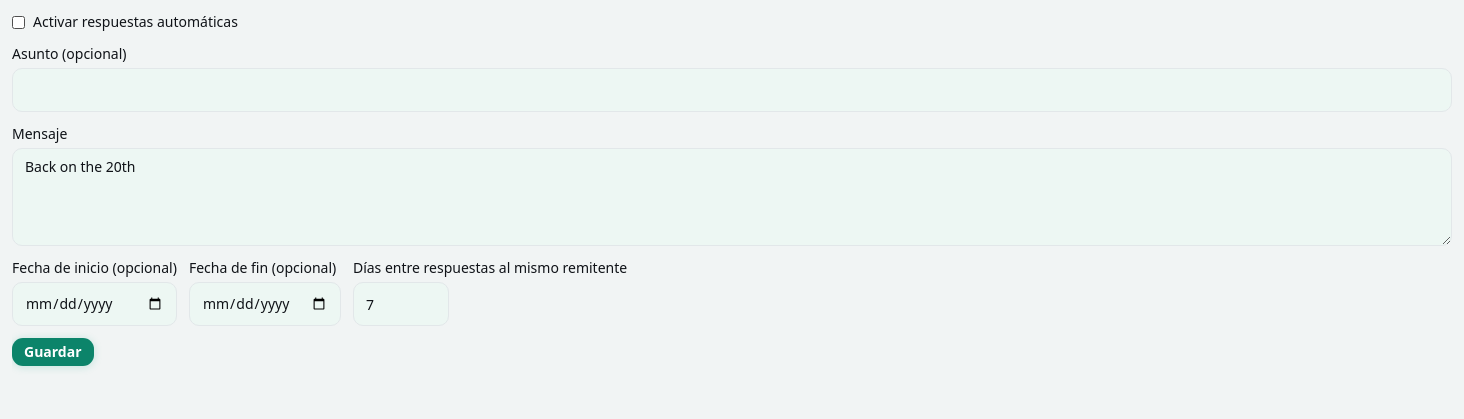
VacationSettings › shows the sync-failed error from the server
The width and height of the screenshot is (1464, 419).
Expected: the checkbox labelled "Activar respuestas automáticas" is shown, [12,16,25,28]
Click the button "Guardar". click: (53, 352)
box: [12,338,94,366]
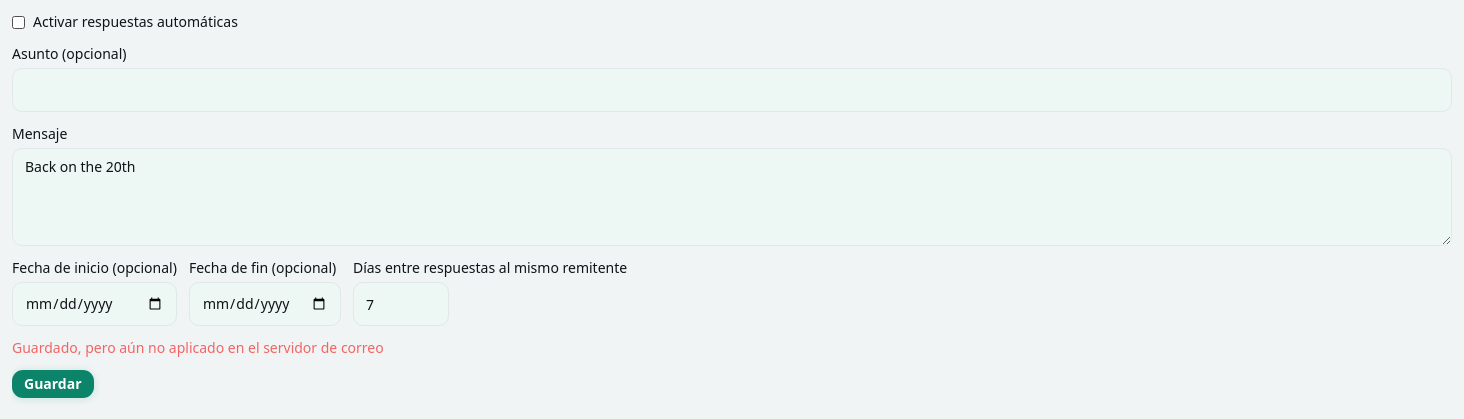
Expected: the text "Guardado, pero aún no aplicado en el servidor de correo" is shown, [12,338,384,357]
